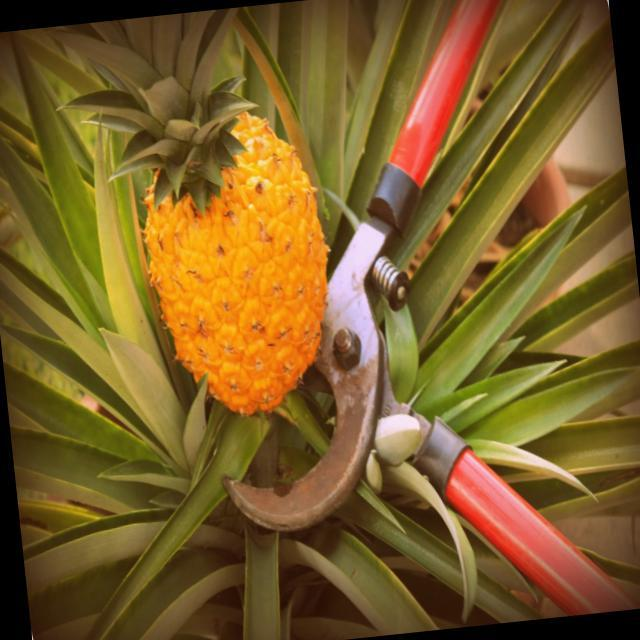PINEAPLE: (134, 81, 342, 422)
